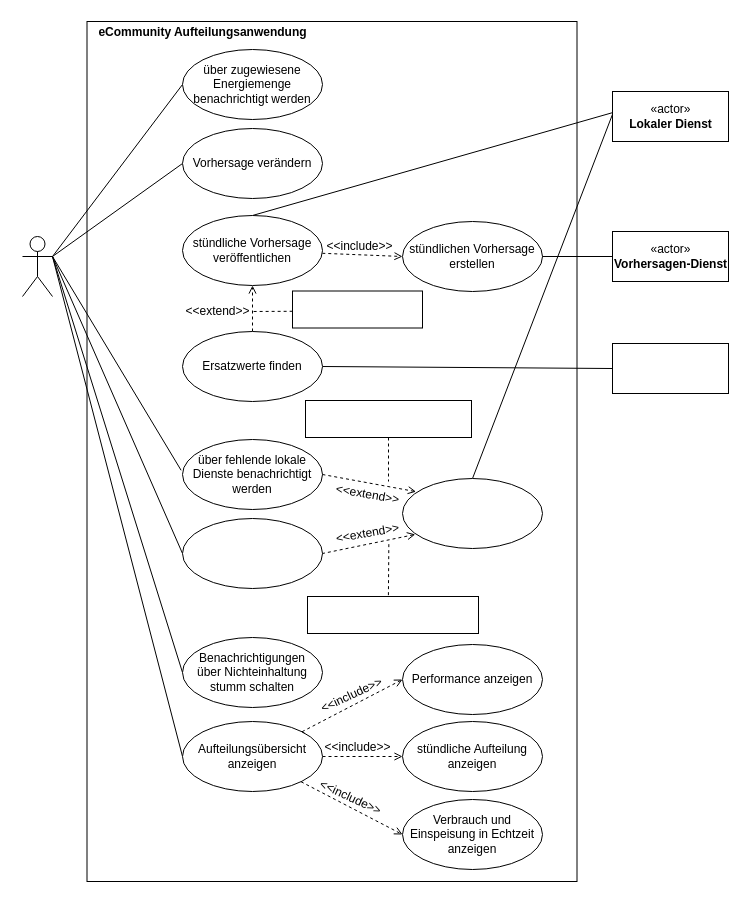
Image size: 746x899. Some labels were removed from this diagram. The box of each missing label's shape, as (x1, y1, x2, y2) in pixels:
Bedingung fehlende Monitoring-Werte: (304, 400, 472, 438)
Bedingung fehlende Vorhersage: (292, 290, 422, 328)
Bedingung Nichteinhaltung der Vorhersage: (306, 596, 478, 634)
Mitglied: (22, 236, 52, 296)
Monitoring-Daten senden: (402, 478, 542, 548)
«actor» Ersatzwerte-Dienst: (612, 342, 728, 394)
über Nichteinhaltung der Vorhersage benachrichtigt werden: (182, 518, 322, 588)
